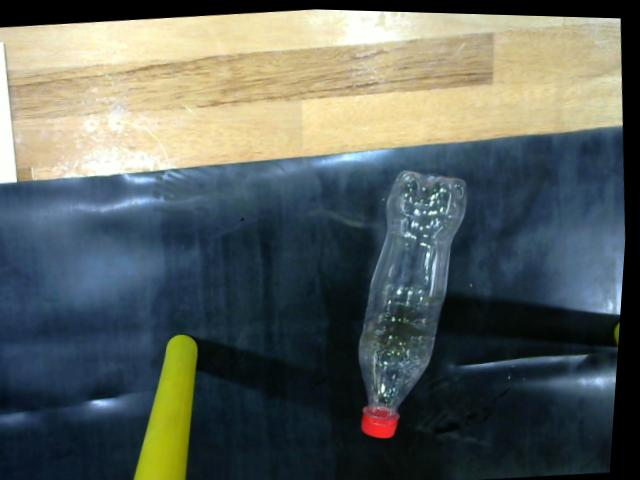bottle: (349, 157, 480, 449)
